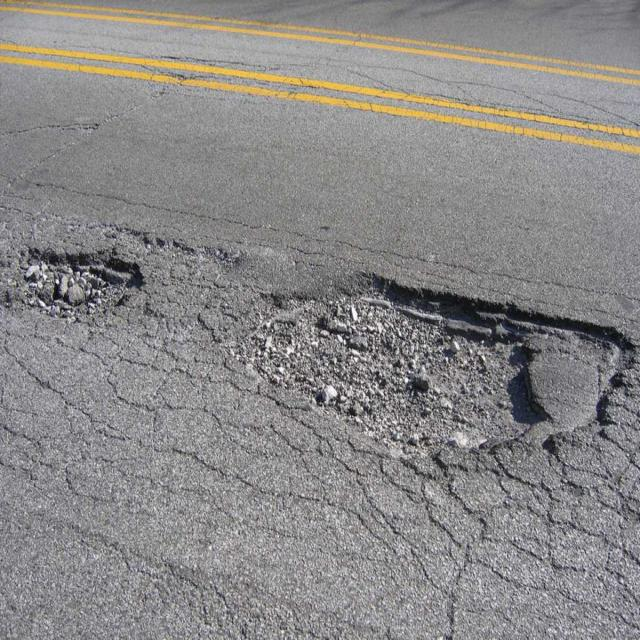Pothole: (242, 274, 640, 447), (0, 238, 145, 325)
